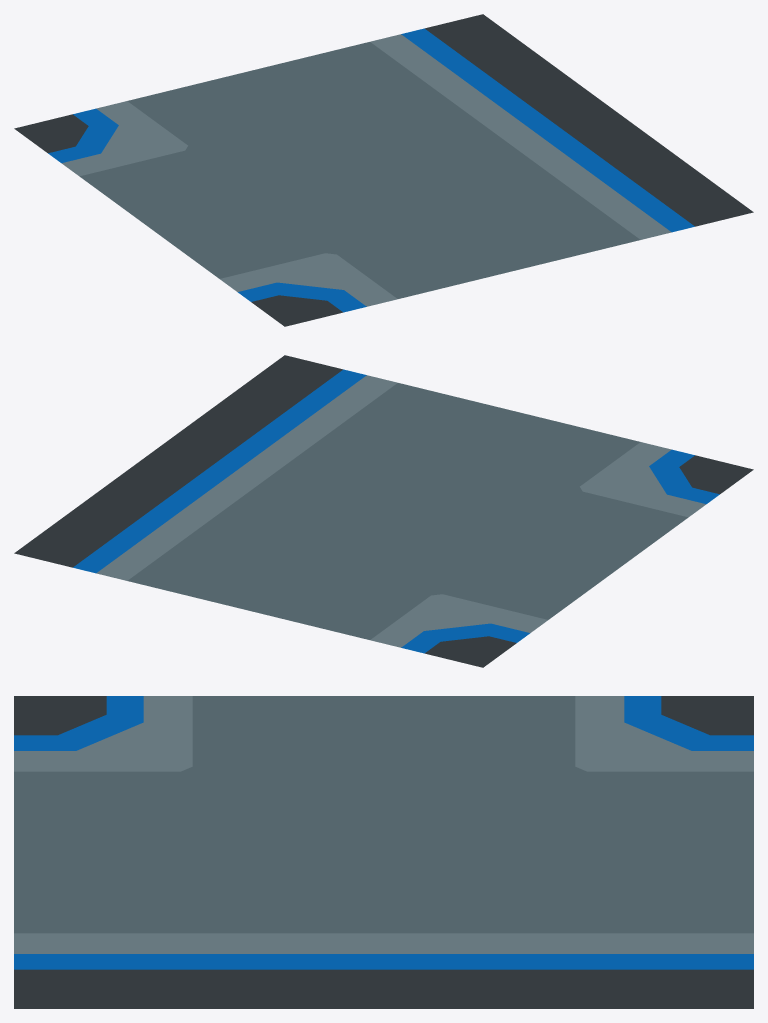
The model's file is Ceiling_type_C_026.004.fbx.
3 renders of one model, top to bottom at view 1: azimuth 30°, elevation 25°; view 2: azimuth 150°, elevation 25°; view 3: azimuth 270°, elevation 25°, orthographic. The views are drawn at different scales.
Parts seen in each view (by area): view 1: Ceiling_type_C_026.004; view 2: Ceiling_type_C_026.004; view 3: Ceiling_type_C_026.004.
Part boxes in pixels (box(x1,y1,x2,y2)): Ceiling_type_C_026.004: box(14, 14, 753, 326); Ceiling_type_C_026.004: box(14, 355, 753, 667); Ceiling_type_C_026.004: box(14, 696, 753, 1008).
Bounding box in the file's own units: 400 × 400 × 6.18.
